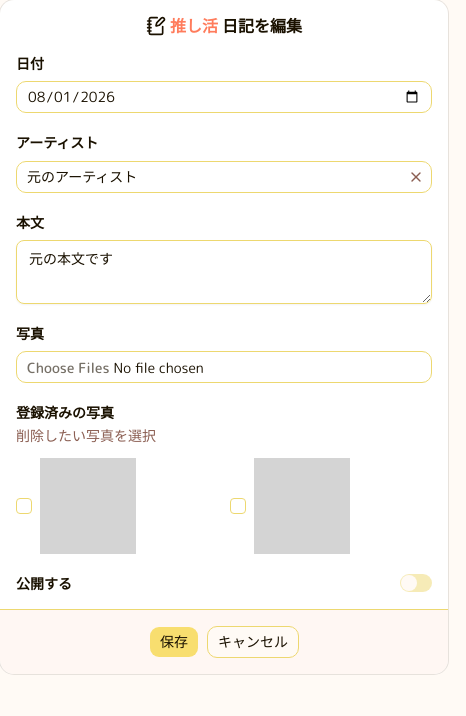
DiaryEditForm › サーバーからフィールドエラーが返る場合はそのフィールドに表示する
Step 1. Click the button "保存" → (174, 642), box [149,626,199,658]
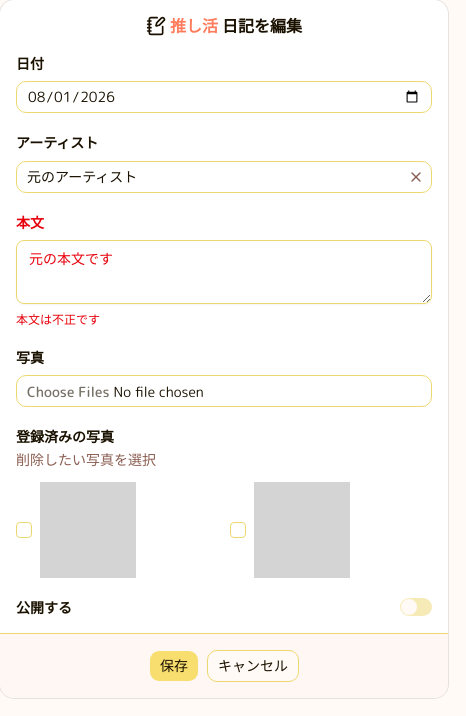
Now the text "本文は不正です" is shown, box [16,311,100,328]
